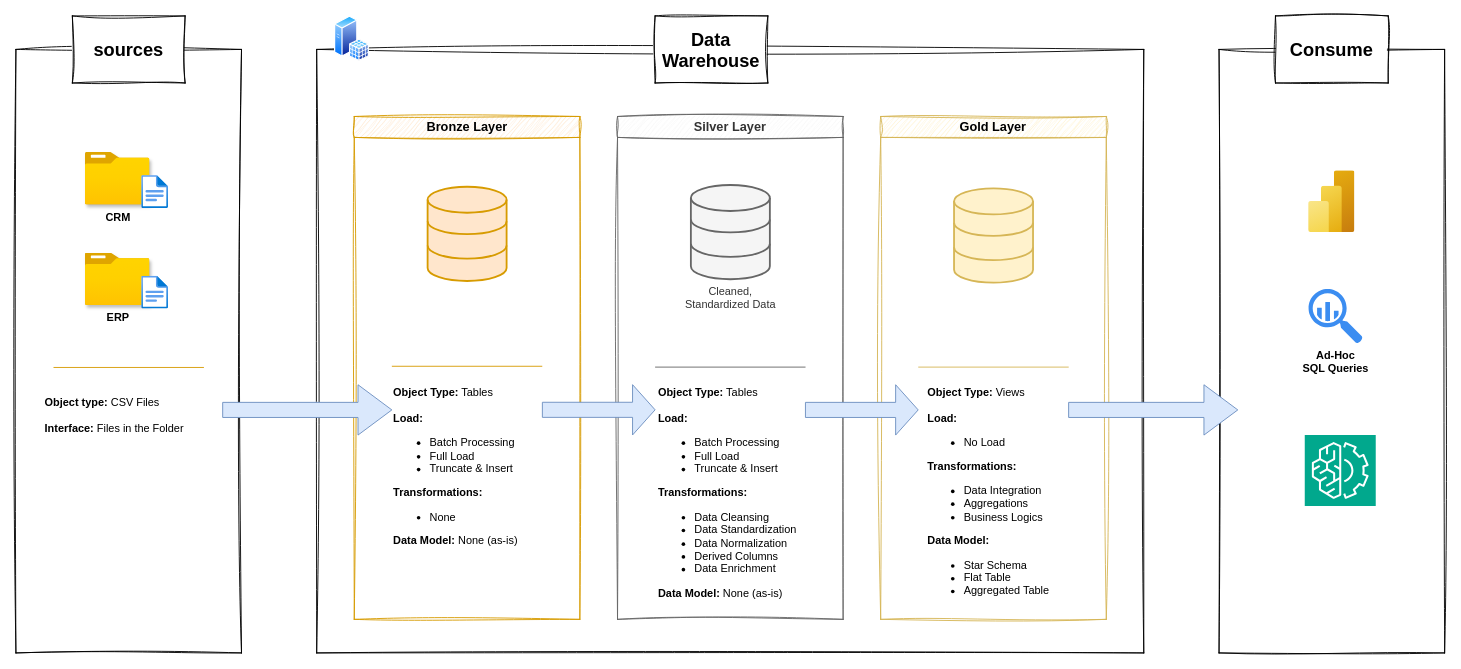
Some shapes in this 1461 by 669 pixel diagram are drawn without their labels. The shapes that lost their labels are listed below. From the top down, each one's centre as x and y in pixels, then its label:
(x=351, y=38): SQL Server
(x=1331, y=201): BI & Reporting
(x=466, y=233): Raw Data
(x=993, y=235): Business-Ready Data
(x=1340, y=470): Machine Learning
